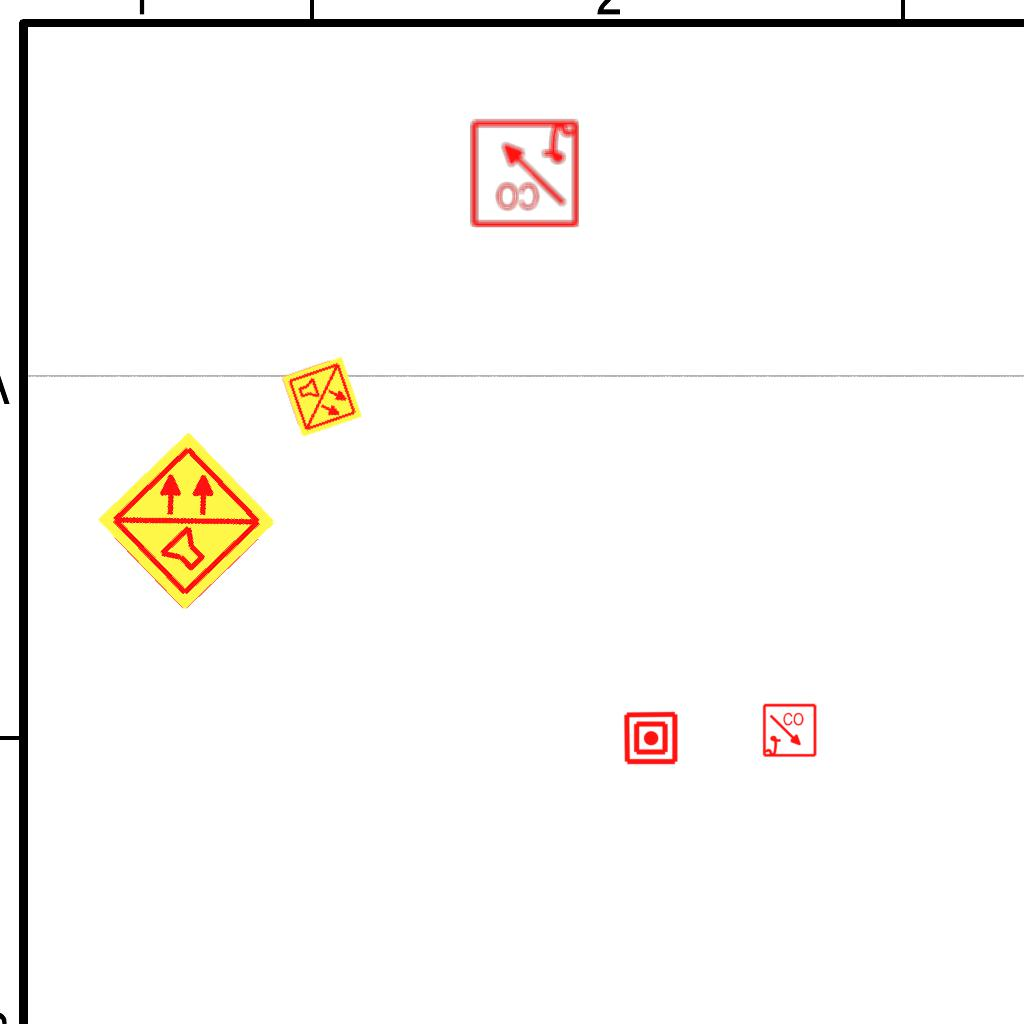NAM-Nichtautomatischer_Melder: (623, 710, 679, 766)
OKW_Multisensormelder_(Kombination_optischer_Rauch-Kahlenmonoxid_Waerme-Melder): (93, 427, 281, 615), (280, 355, 364, 439)
ROA_Rauchmelder_optisch_mit_Signalgeber_(Sockelsirene): (468, 116, 581, 229), (762, 703, 818, 759)
